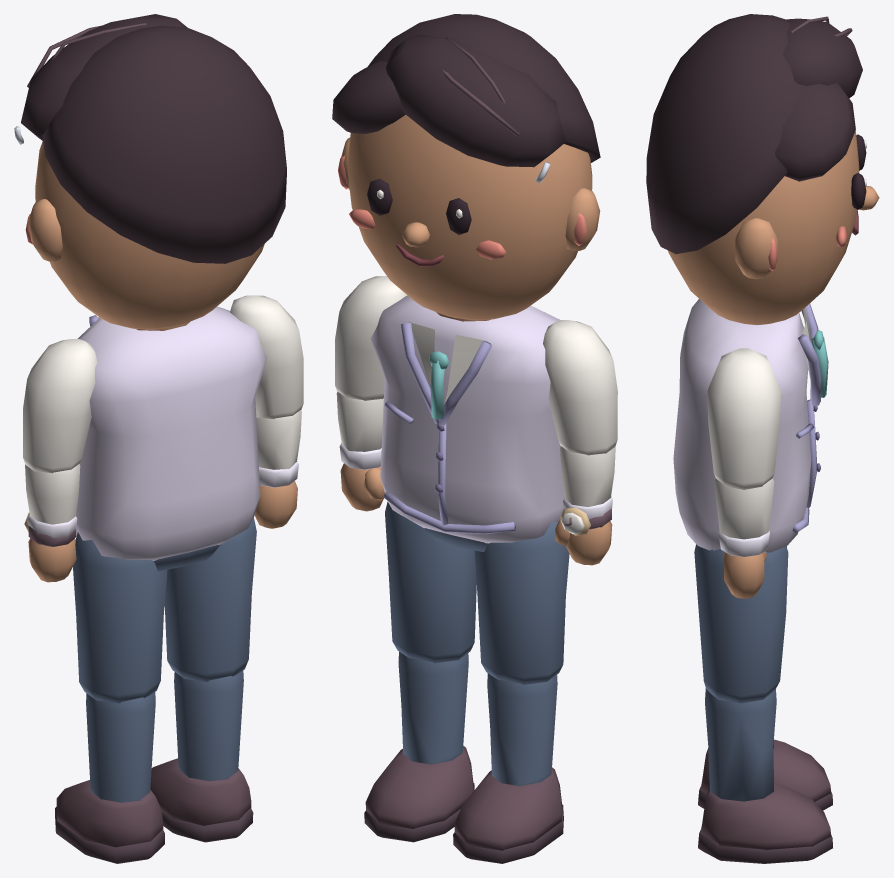
Rendered from owner_worker.glb.
The picture shows the model from 3 angles, left to right: view 1: azimuth 30°, elevation 25°; view 2: azimuth 150°, elevation 25°; view 3: azimuth 270°, elevation 25°; orthographic projection.
Parts seen in each view (by area): view 1: Hair, Body, Head, Knee_L, Leg_L, Knee_R, Leg_R, Arm_L, Arm_R, Forearm_L, Forearm_R; view 2: Body, Head, Hair, Knee_L, Knee_R, Leg_L, Leg_R, Arm_L, Forearm_L, Arm_R, Forearm_R; view 3: Hair, Body, Head, Knee_R, Leg_R, Arm_R, Forearm_R, Knee_L.
Part boxes in pixels (x1=…): Hair: x1=21, y1=14, x2=286, y2=263; Body: x1=76, y1=306, x2=267, y2=571; Head: x1=25, y1=141, x2=264, y2=329; Knee_L: x1=55, y1=692, x2=164, y2=863; Leg_L: x1=73, y1=532, x2=167, y2=703; Knee_R: x1=150, y1=670, x2=253, y2=842; Leg_R: x1=164, y1=517, x2=256, y2=681; Arm_L: x1=23, y1=339, x2=97, y2=473; Arm_R: x1=230, y1=295, x2=303, y2=419; Forearm_L: x1=24, y1=464, x2=80, y2=582; Forearm_R: x1=254, y1=410, x2=301, y2=528; Body: x1=370, y1=295, x2=564, y2=551; Head: x1=338, y1=115, x2=600, y2=320; Hair: x1=332, y1=14, x2=600, y2=167; Knee_L: x1=453, y1=673, x2=563, y2=863; Knee_R: x1=364, y1=651, x2=474, y2=842; Leg_L: x1=474, y1=521, x2=569, y2=684; Leg_R: x1=385, y1=502, x2=476, y2=663; Arm_L: x1=543, y1=320, x2=617, y2=455; Forearm_L: x1=555, y1=446, x2=615, y2=565; Arm_R: x1=335, y1=276, x2=407, y2=400; Forearm_R: x1=336, y1=391, x2=384, y2=511; Hair: x1=646, y1=14, x2=862, y2=253; Body: x1=673, y1=299, x2=828, y2=552; Head: x1=668, y1=131, x2=879, y2=325; Knee_R: x1=698, y1=688, x2=832, y2=863; Leg_R: x1=694, y1=544, x2=788, y2=703; Arm_R: x1=707, y1=348, x2=781, y2=489; Forearm_R: x1=714, y1=478, x2=774, y2=598; Knee_L: x1=698, y1=739, x2=832, y2=810.
Bounding box in the file's own units: 0.57 × 1.6 × 0.4221.
Materials: 20 (20 with a texture image).
